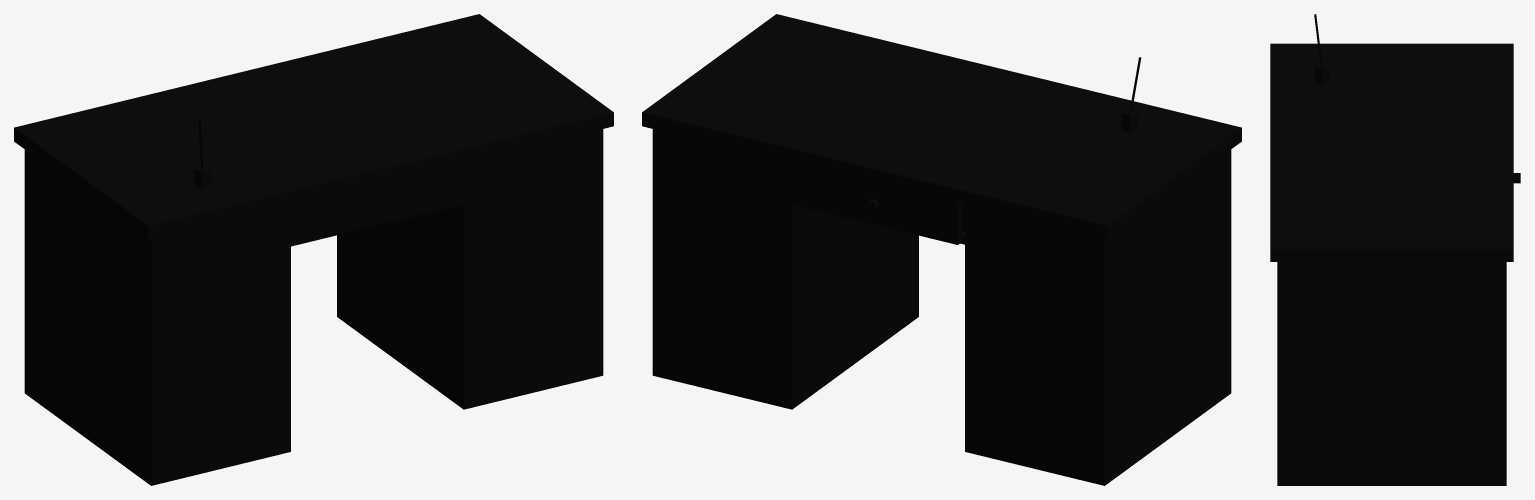
Rendered from SM_desk_writing.fbx.
The picture shows the model from 3 angles, left to right: view 1: azimuth 30°, elevation 25°; view 2: azimuth 150°, elevation 25°; view 3: azimuth 270°, elevation 25°; orthographic projection. The views are drawn at different scales.
Parts seen in each view (by area): view 1: desk_writing; view 2: desk_writing, desk_writing_drawer; view 3: desk_writing.
Part boxes in pixels (<box>): desk_writing: <box>14,14,613,485</box>; desk_writing: <box>642,14,1241,485</box>; desk_writing_drawer: <box>791,163,964,244</box>; desk_writing: <box>1270,14,1513,485</box>.
Bounding box in the file's own units: 1.4 × 0.9606 × 0.72.
